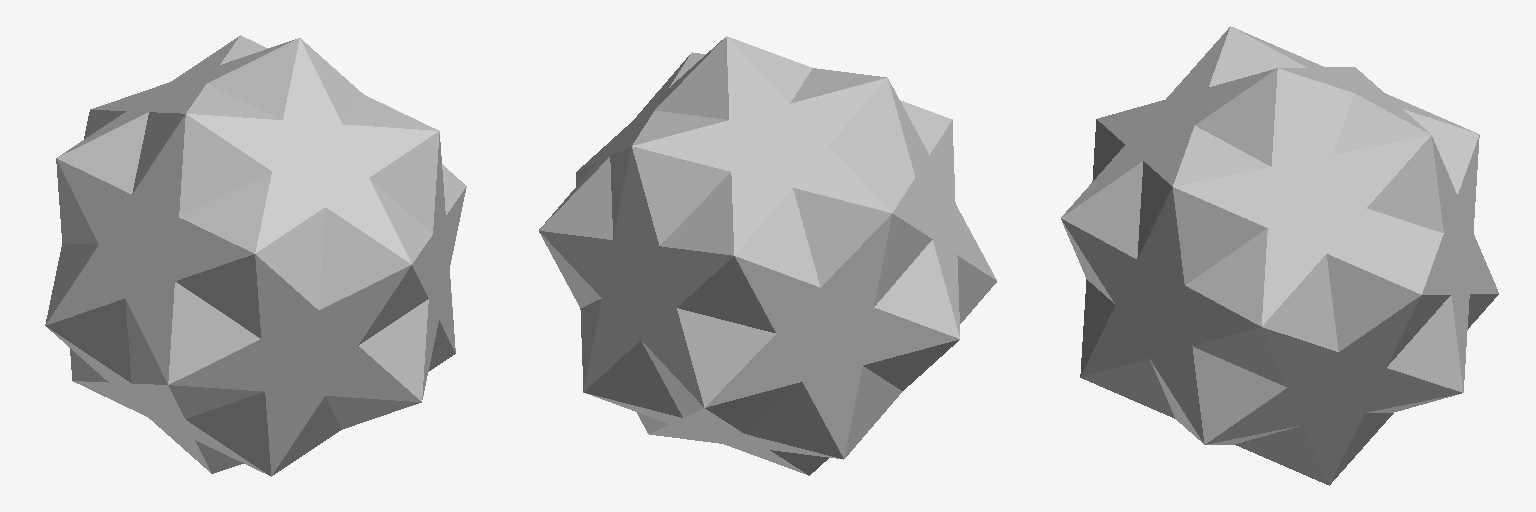
Rendered from SmallDiTrigonalIcosiDodecahedron.obj.
3 views of the same model, side by side, from view 1: azimuth 30°, elevation 25°; view 2: azimuth 150°, elevation 25°; view 3: azimuth 270°, elevation 25° (orthographic).
Visible parts, largest first — view 1: SmallDiTrigonalIcosiDodecahedron; view 2: SmallDiTrigonalIcosiDodecahedron; view 3: SmallDiTrigonalIcosiDodecahedron.
Part boxes in pixels (x1,y1,x2,y2): SmallDiTrigonalIcosiDodecahedron: (45,35,466,476); SmallDiTrigonalIcosiDodecahedron: (539,36,996,475); SmallDiTrigonalIcosiDodecahedron: (1061,26,1498,485).
Bounding box in the file's own units: 3.36 × 3.33 × 3.17.